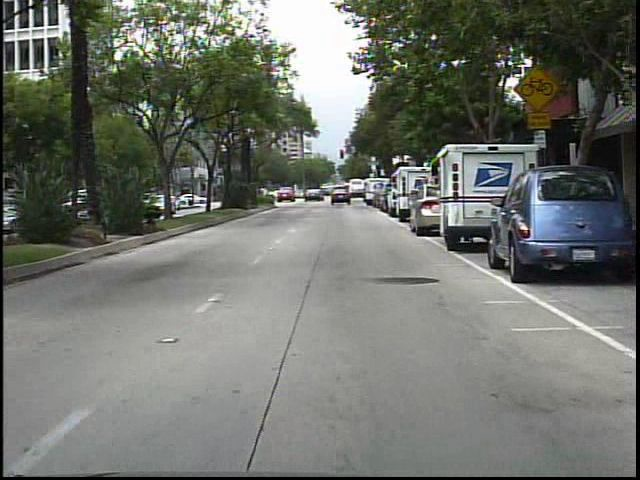person: (351, 183, 356, 203)
